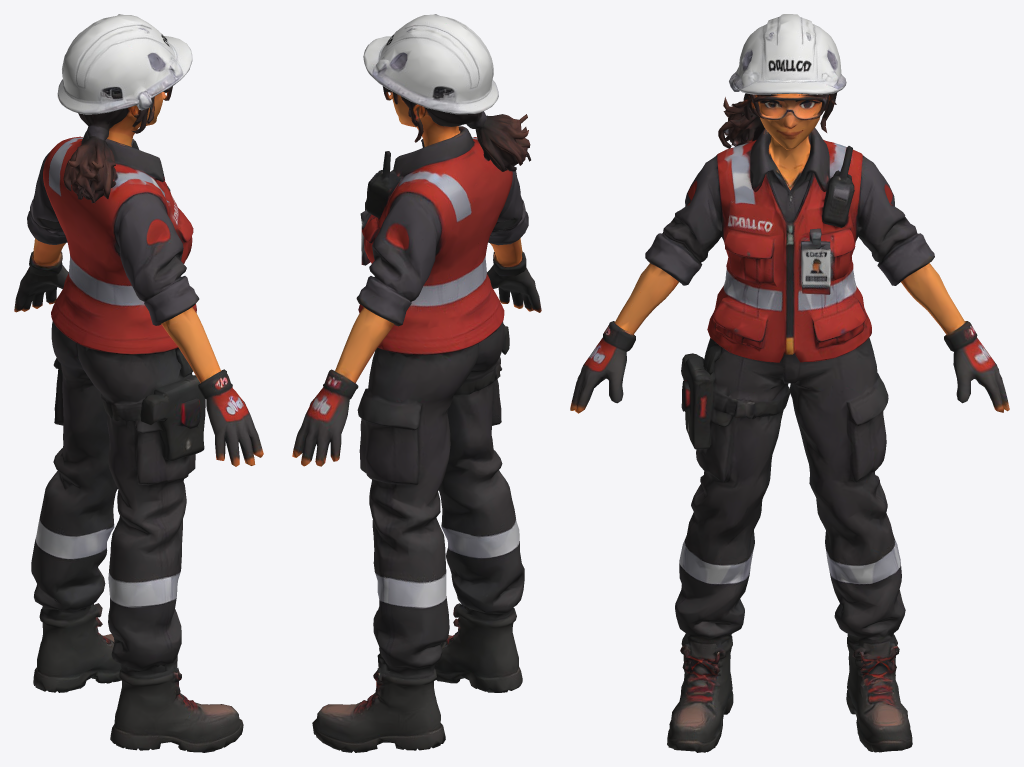
Rendered from npc-m5-warehouse-tech.glb.
3 views of the same model, side by side, from view 1: azimuth 30°, elevation 25°; view 2: azimuth 150°, elevation 25°; view 3: azimuth 270°, elevation 25° (orthographic).
Parts seen in each view (by area): view 1: tripo_node_6ef5fee1-7b80-4579-a993-74e533b18f44; view 2: tripo_node_6ef5fee1-7b80-4579-a993-74e533b18f44; view 3: tripo_node_6ef5fee1-7b80-4579-a993-74e533b18f44.
Boxes of the visible parts, x1=… form: tripo_node_6ef5fee1-7b80-4579-a993-74e533b18f44: x1=14, y1=14, x2=263, y2=752; tripo_node_6ef5fee1-7b80-4579-a993-74e533b18f44: x1=292, y1=14, x2=541, y2=752; tripo_node_6ef5fee1-7b80-4579-a993-74e533b18f44: x1=570, y1=14, x2=1009, y2=752.
Size of the model in its own units: 0.2149 by 1 by 0.5649.
1 material, 1 textured.
